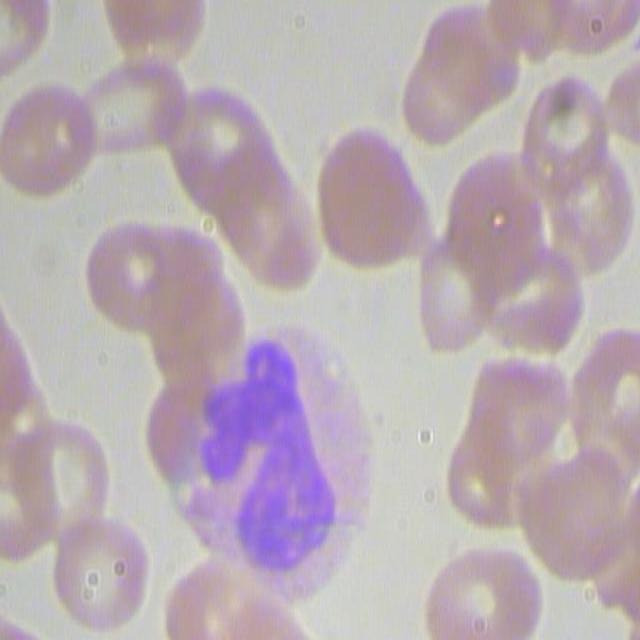RBC: (195, 82, 320, 297), (519, 402, 637, 588), (438, 371, 558, 550), (309, 126, 434, 280), (398, 5, 522, 150), (469, 209, 588, 360), (140, 228, 239, 376), (10, 414, 111, 544), (79, 217, 184, 334), (515, 66, 614, 190), (421, 539, 544, 638), (1, 80, 98, 202), (47, 514, 145, 631), (411, 236, 495, 354), (565, 327, 640, 456), (2, 300, 49, 481), (517, 0, 640, 59), (98, 0, 209, 65), (0, 0, 47, 79)
WBC: (174, 340, 377, 591)
